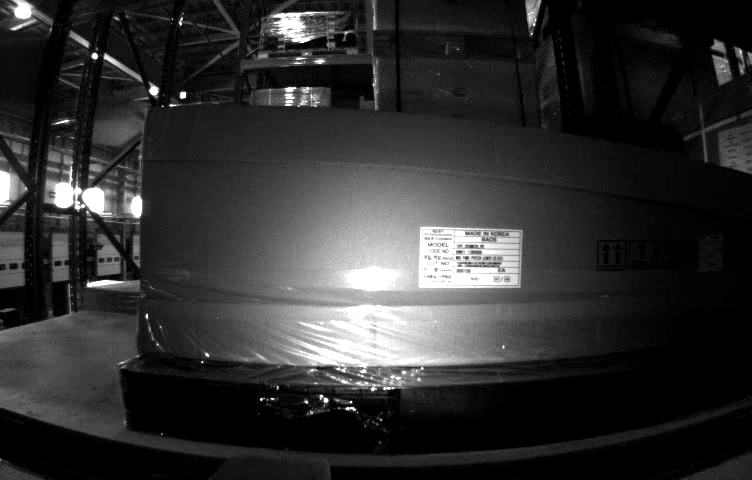True Barcode: (697, 235, 724, 273)
